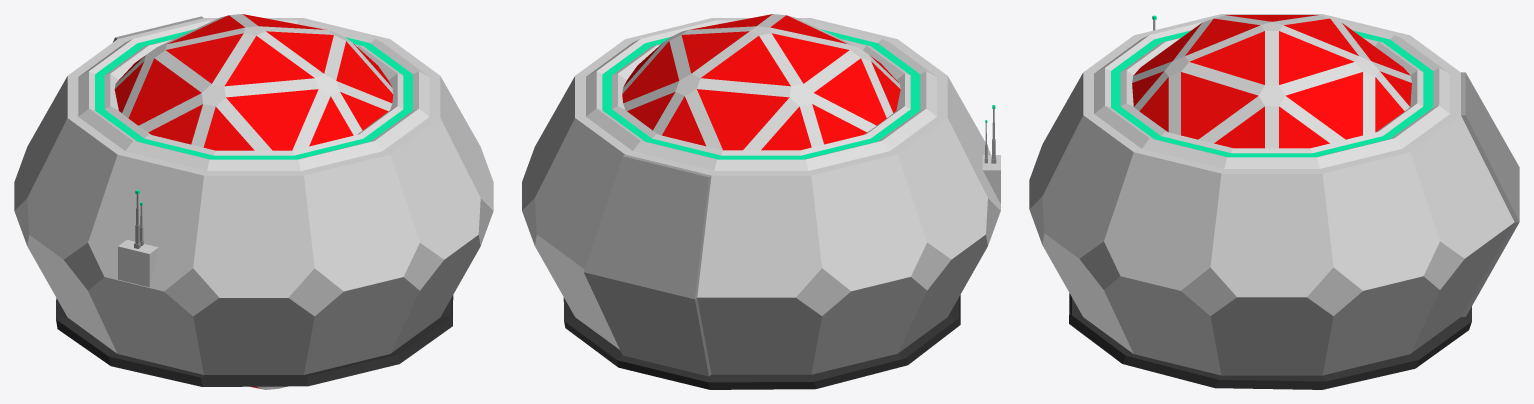
The model's file is Shelter_New.fbx.
3 views of the same model, side by side, from view 1: azimuth 30°, elevation 25°; view 2: azimuth 150°, elevation 25°; view 3: azimuth 270°, elevation 25° (orthographic).
Parts seen in each view (by area): view 1: Shelter; view 2: Shelter; view 3: Shelter.
Boxes of the visible parts, x1,y1,x2,y2 form: Shelter: [14, 14, 493, 389]; Shelter: [522, 14, 1000, 389]; Shelter: [1029, 14, 1519, 389].
Bounding box in the file's own units: 248 × 196 × 251.
